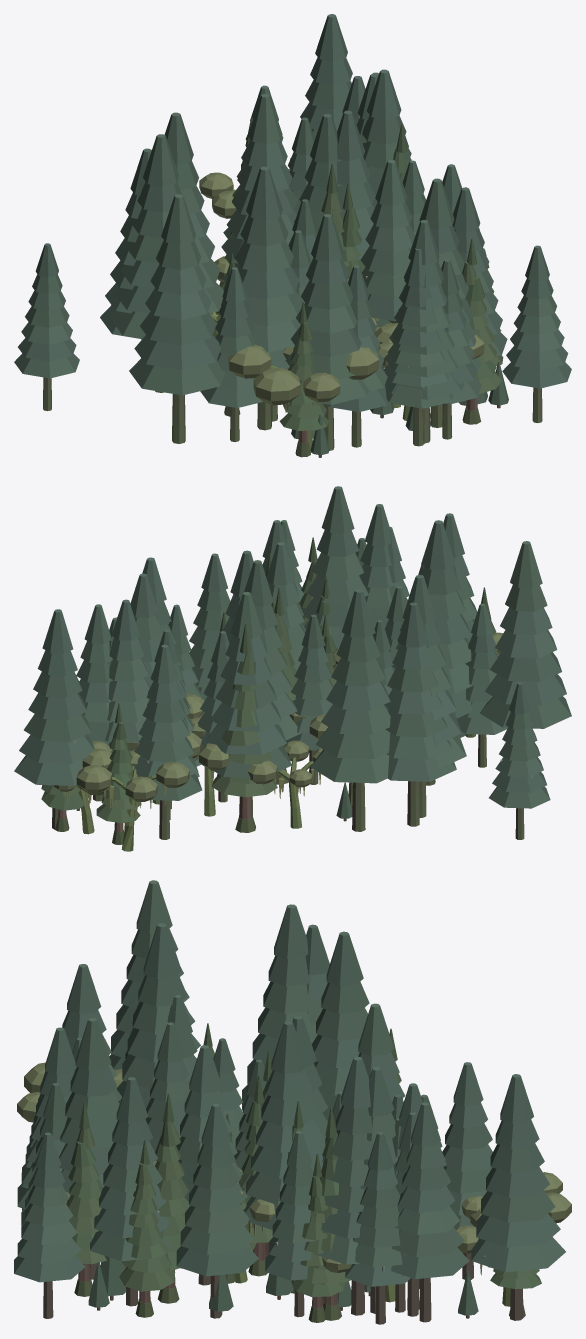
File: Mist_Forest_1_1.fbx
3 views of the same model, one above another, from view 1: azimuth 30°, elevation 25°; view 2: azimuth 150°, elevation 25°; view 3: azimuth 270°, elevation 25° (orthographic). The views are drawn at different scales.
Parts seen in each view (by area): view 1: Mist_Forest_1_1; view 2: Mist_Forest_1_1; view 3: Mist_Forest_1_1.
Boxes of the visible parts, box(x1,y1,x2,y2) form: Mist_Forest_1_1: box(14, 14, 571, 457); Mist_Forest_1_1: box(14, 486, 571, 851); Mist_Forest_1_1: box(14, 880, 571, 1324).
Bounding box in the file's own units: 45.5 × 25.73 × 45.85.
